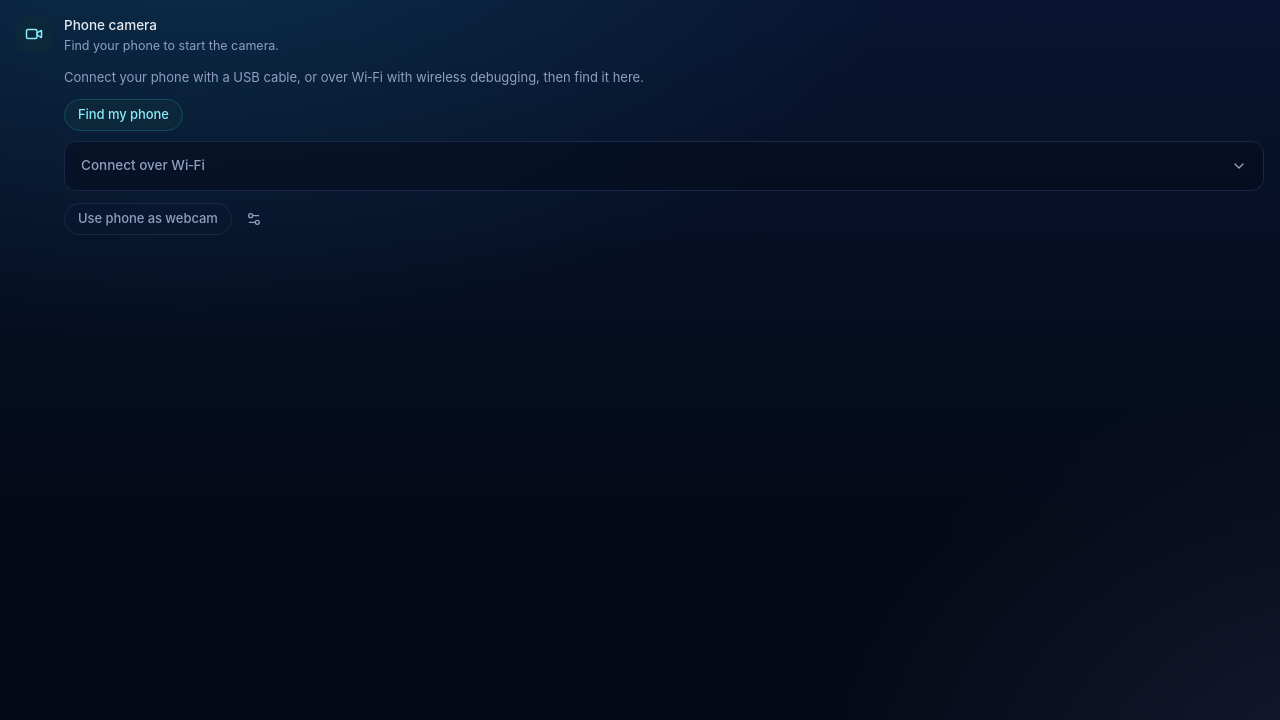
Scenario: Phone camera without a self-hosted Hub › explains a missing adb or an empty list in plain language
The image size is (1280, 720).
Click the button "Find my phone".
click(123, 115)  # box [64,99,183,131]
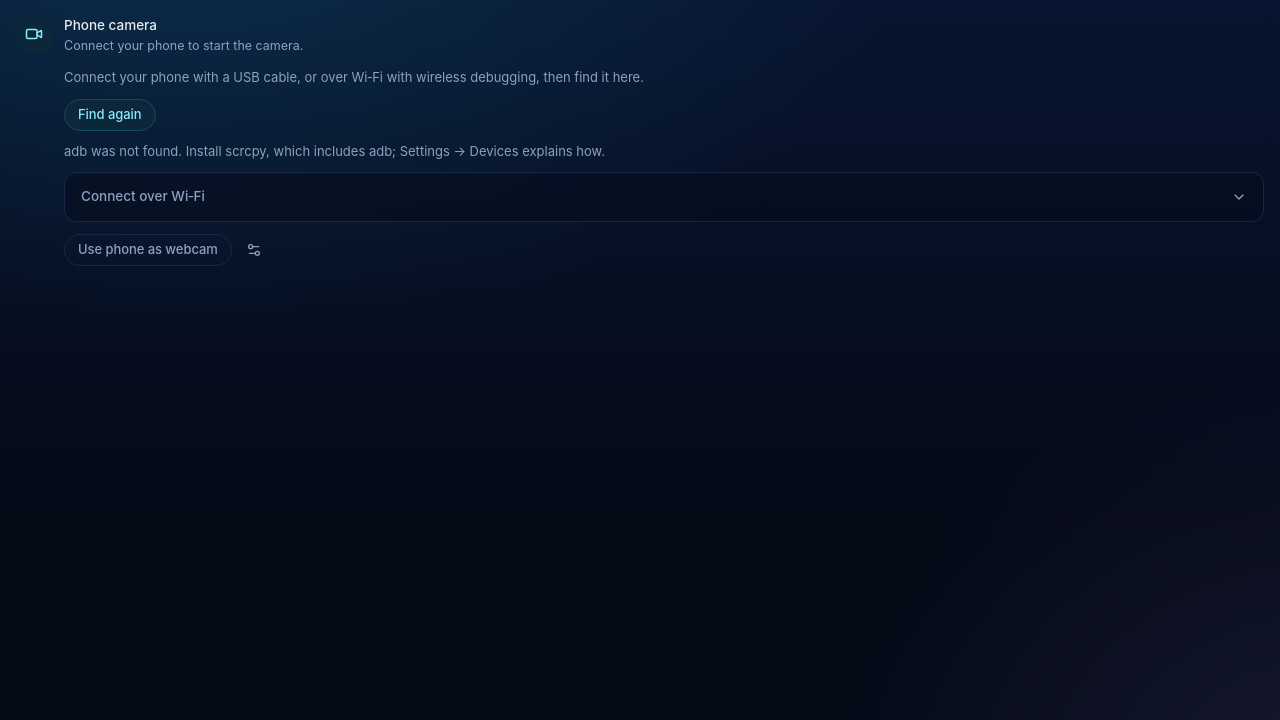
expect the text "adb was not found. Install scrcpy" is shown: met, box [64,143,605,159]
Click the button "Find again".
click(110, 115)  # box [64,99,156,131]
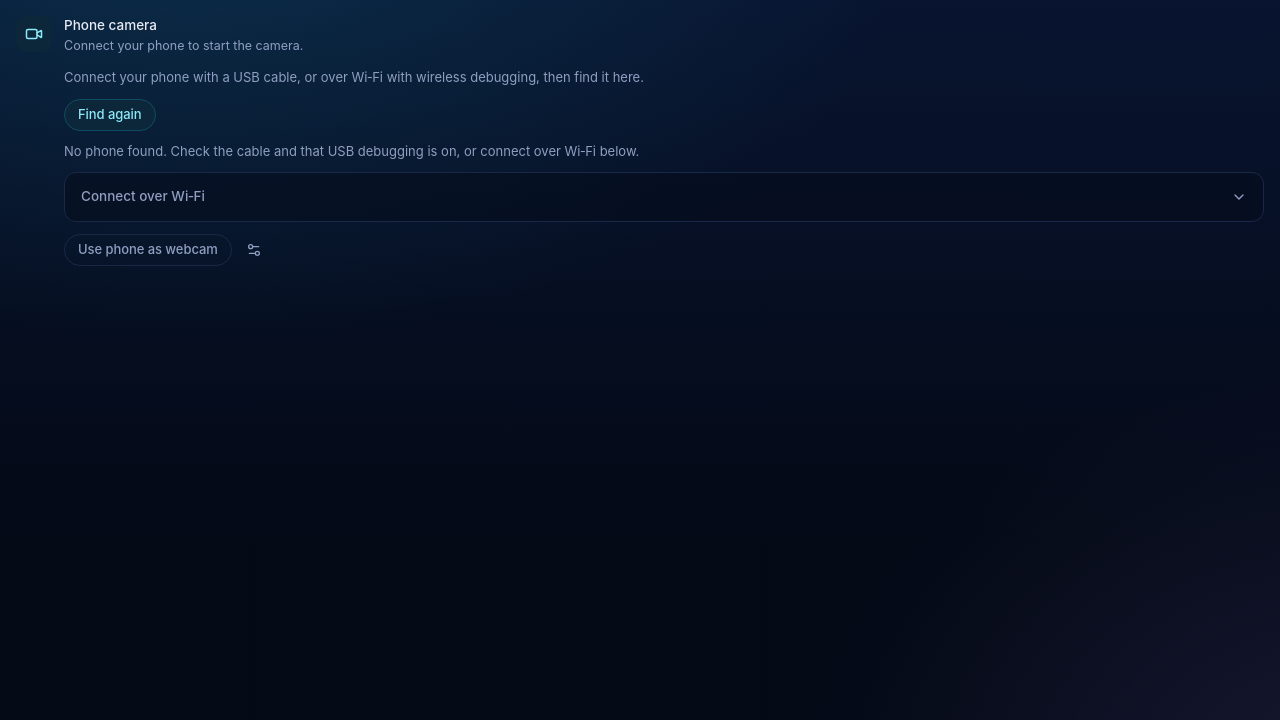
expect the button "Use phone as webcam" is disabled: met, box [64,234,232,266]
expect the text "No phone found. Check the cable" is shown: met, box [64,143,639,159]
